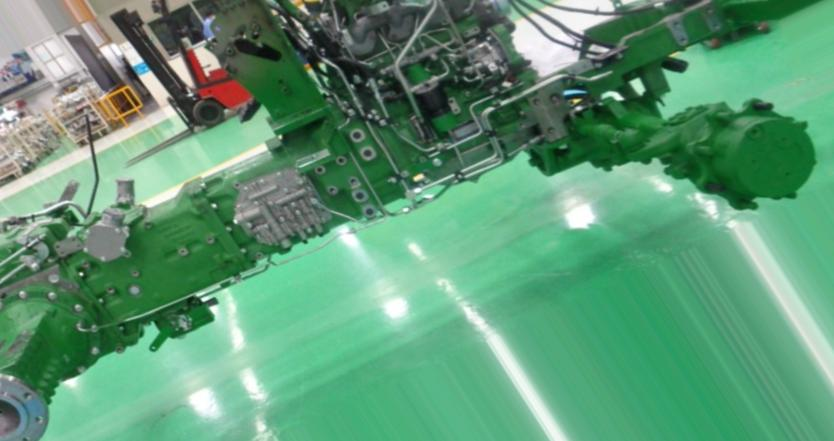engine: (0, 0, 813, 435)
